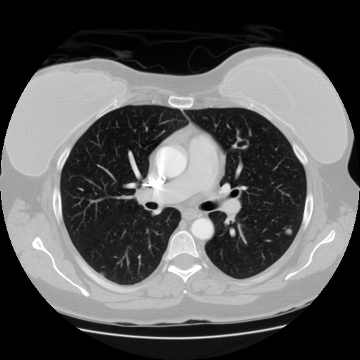nodule: (284, 227, 292, 235)
